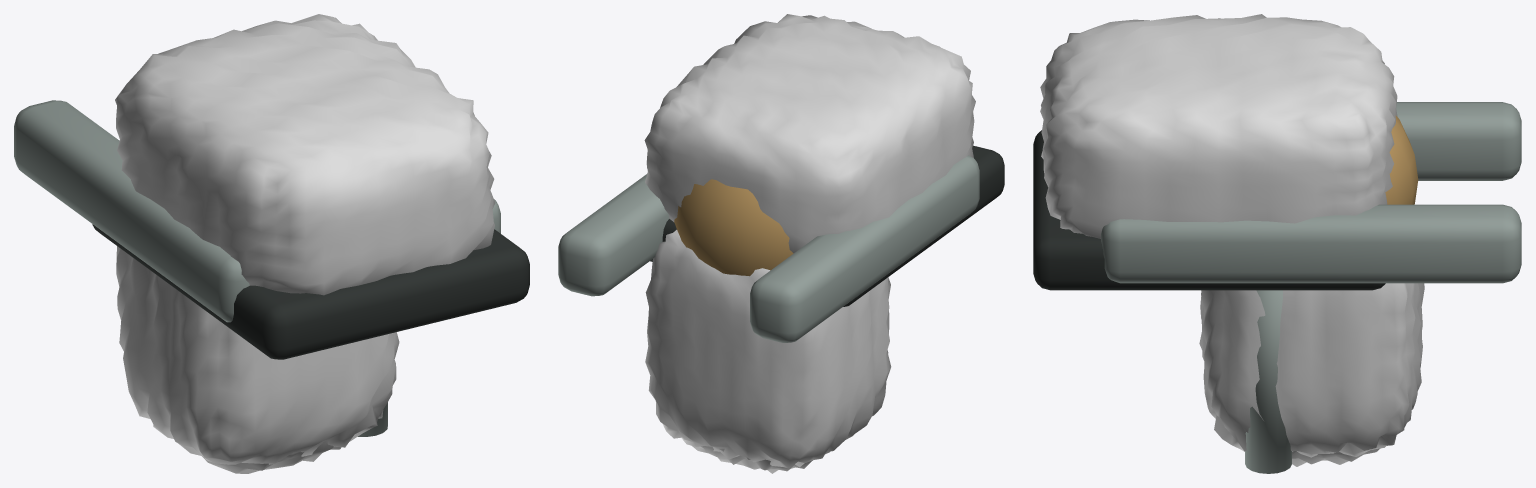
Rendered from deadeye-leg-1.glb.
3 views of the same model, side by side, from view 1: azimuth 30°, elevation 25°; view 2: azimuth 150°, elevation 25°; view 3: azimuth 270°, elevation 25° (orthographic). The views are drawn at different scales.
Visible parts, largest first — view 1: foot_clay, upper_clay, foot_rubber, foot_steel, lower_clay; view 2: foot_clay, upper_clay, foot_steel, upper_brass, foot_rubber, lower_clay; view 3: foot_clay, foot_steel, upper_clay, foot_rubber, lower_steel, upper_brass, lower_clay.
Boxes of the visible parts, x1,y1,x2,y2 form: foot_clay: (115,14,495,295); upper_clay: (116,246,399,464); foot_rubber: (92,224,529,359); foot_steel: (14,100,500,322); lower_clay: (202,440,341,473); foot_clay: (644,14,975,253); upper_clay: (645,229,891,468); foot_steel: (558,155,979,342); upper_brass: (674,179,793,276); foot_rubber: (650,145,1004,306); lower_clay: (692,446,829,473); foot_clay: (1040,14,1397,238); foot_steel: (1101,102,1521,283); upper_clay: (1199,283,1424,457); foot_rubber: (1033,130,1385,290); lower_steel: (1245,290,1291,473); upper_brass: (1385,115,1418,204); lower_clay: (1292,448,1380,466).
Bounding box in the file's own units: 0.43 × 0.6112 × 0.685.
